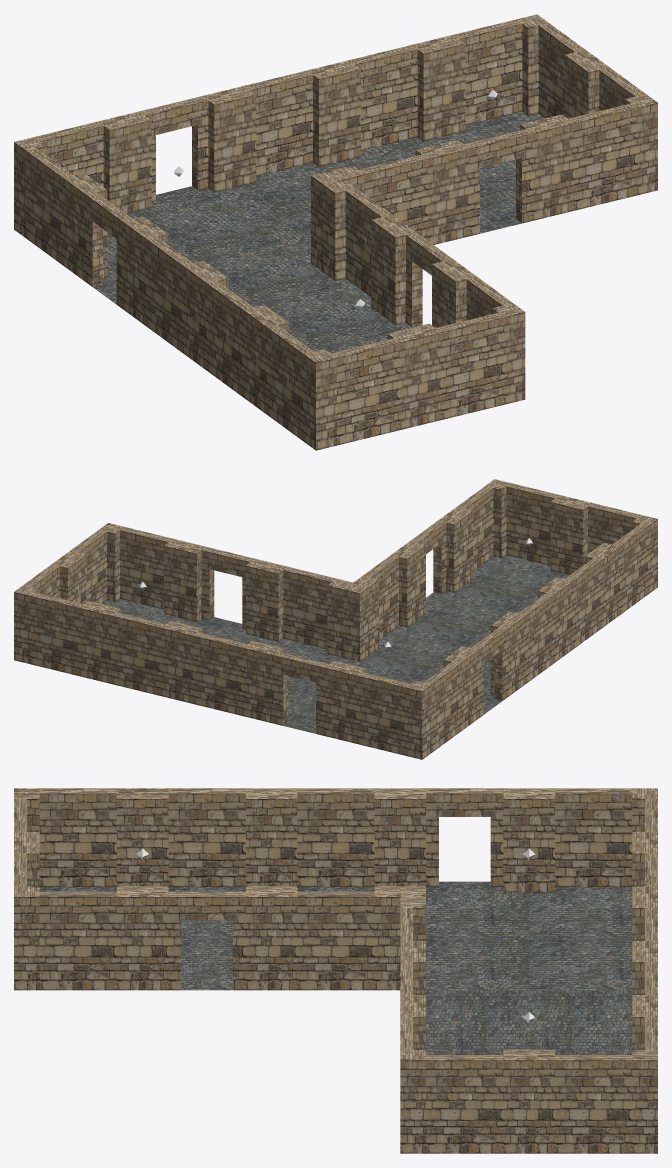
File: 1_5wideLRoomCorner.fbx
The picture shows the model from 3 angles, top to bottom: view 1: azimuth 30°, elevation 25°; view 2: azimuth 150°, elevation 25°; view 3: azimuth 270°, elevation 25°; orthographic projection. The views are drawn at different scales.
Parts seen in each view (by area): view 1: Cube_2, Plane_1; view 2: Cube_2, Plane_1; view 3: Cube_2, Plane_1.
Boxes of the visible parts, x1=… form: Cube_2: x1=14, y1=14, x2=657, y2=450; Plane_1: x1=93, y1=111, x2=545, y2=353; Cube_2: x1=14, y1=479, x2=657, y2=759; Plane_1: x1=102, y1=555, x2=569, y2=733; Cube_2: x1=14, y1=788, x2=657, y2=1153; Plane_1: x1=39, y1=881, x2=632, y2=1054.
Size of the model in its own units: 50 by 8 by 50.
4 materials, 4 textured.
